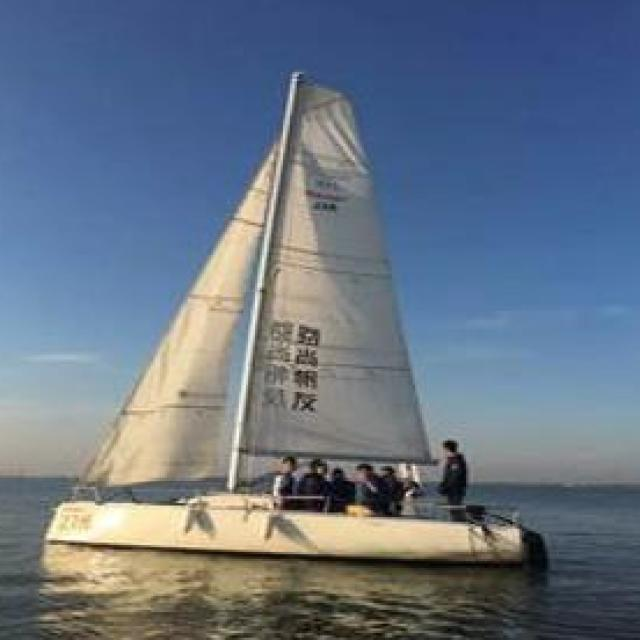sailboat: (45, 67, 541, 585)
